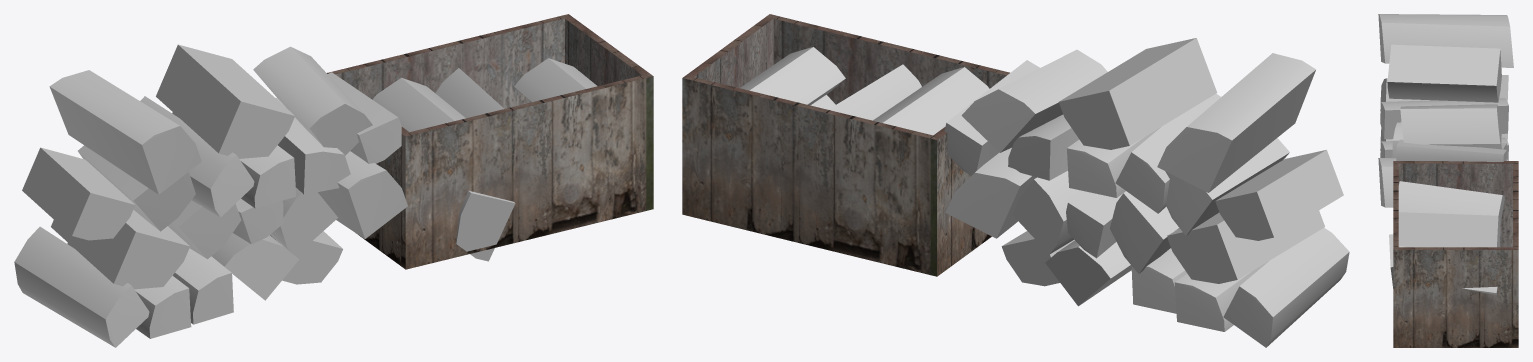
Rendered from LenaBodega.FBX.
3 views of the same model, side by side, from view 1: azimuth 30°, elevation 25°; view 2: azimuth 150°, elevation 25°; view 3: azimuth 270°, elevation 25° (orthographic). The views are drawn at different scales.
Visible parts, largest first — view 1: CajaLena, Lena047, Lena037, Lena035, Lena043, Lena042, Lena031, Lena026, Lena039, Lena032, Lena046, Lena036 (+12 smaller); view 2: CajaLena, Lena047, Lena037, Lena035, Lena043, Lena042, Lena031, Lena026, Lena045, Lena039, Lena040, Lena046 (+11 smaller); view 3: CajaLena, Lena037, Lena047, Lena042, Lena044, Lena045, Lena041, Lena038, Lena026, Lena039, Lena034, Lena036 (+2 smaller).
Boxes of the visible parts, left/top/right/bottom form: CajaLena: left=327, top=14, right=653, bottom=269; Lena047: left=49, top=70, right=201, bottom=194; Lena037: left=156, top=44, right=294, bottom=158; Lena035: left=14, top=226, right=149, bottom=347; Lena043: left=22, top=147, right=135, bottom=240; Lena042: left=253, top=46, right=372, bottom=155; Lena031: left=51, top=210, right=189, bottom=289; Lena026: left=318, top=151, right=407, bottom=238; Lena039: left=140, top=96, right=254, bottom=217; Lena032: left=211, top=233, right=299, bottom=300; Lena046: left=78, top=145, right=195, bottom=231; Lena036: left=275, top=97, right=350, bottom=194; CajaLena: left=682, top=14, right=1009, bottom=276; Lena047: left=1157, top=53, right=1315, bottom=192; Lena037: left=1059, top=38, right=1217, bottom=149; Lena035: left=1223, top=228, right=1349, bottom=347; Lena043: left=1215, top=149, right=1343, bottom=240; Lena042: left=961, top=49, right=1107, bottom=152; Lena031: left=1167, top=210, right=1324, bottom=283; Lena026: left=945, top=147, right=1036, bottom=238; Lena045: left=873, top=67, right=989, bottom=135; Lena039: left=1115, top=93, right=1220, bottom=213; Lena040: left=740, top=47, right=845, bottom=105; Lena046: left=1165, top=138, right=1289, bottom=235; CajaLena: left=1393, top=161, right=1518, bottom=347; Lena037: left=1387, top=44, right=1501, bottom=102; Lena047: left=1378, top=14, right=1513, bottom=67; Lena042: left=1400, top=104, right=1501, bottom=149; Lena044: left=1398, top=212, right=1500, bottom=247; Lena045: left=1398, top=181, right=1504, bottom=224; Lena041: left=1396, top=139, right=1506, bottom=161; Lena038: left=1380, top=98, right=1508, bottom=139; Lena026: left=1378, top=158, right=1507, bottom=207; Lena039: left=1380, top=75, right=1508, bottom=110; Lena034: left=1380, top=137, right=1508, bottom=160; Lena036: left=1392, top=122, right=1403, bottom=158.
Size of the model in its own units: 78.58 by 29.04 by 22.49.
